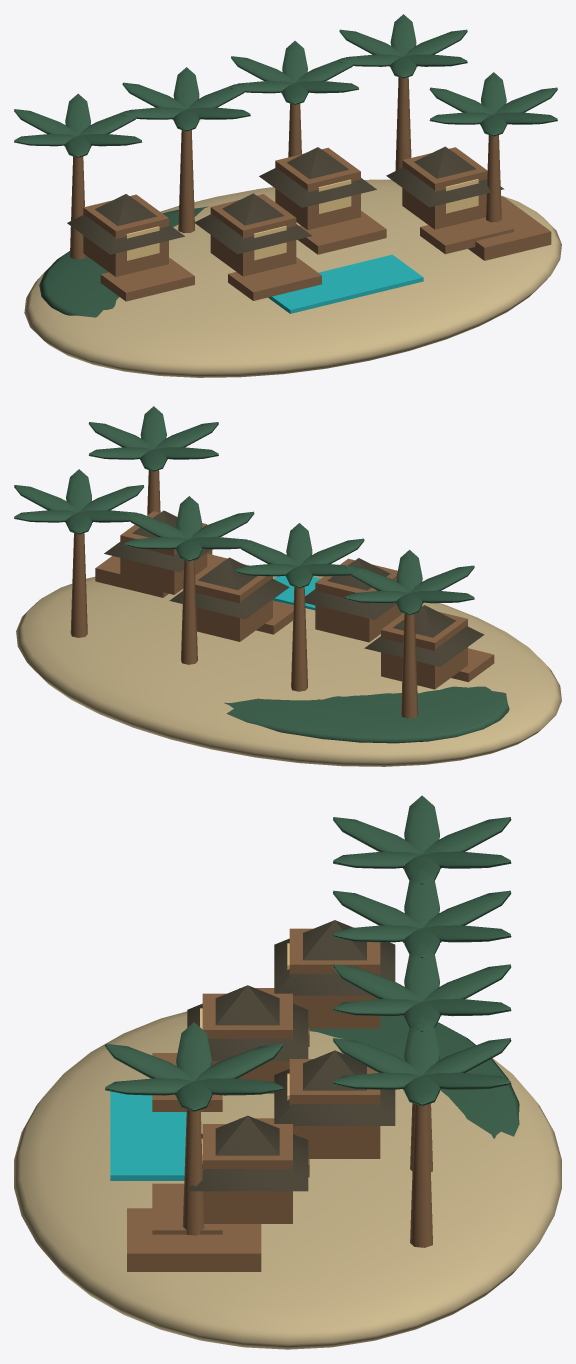
File: property.glb
3 views of the same model, one above another, from view 1: azimuth 30°, elevation 25°; view 2: azimuth 150°, elevation 25°; view 3: azimuth 270°, elevation 25° (orthographic). The views are drawn at different scales.
Bounding box in the file's own units: 6 × 2.19 × 4.09.
